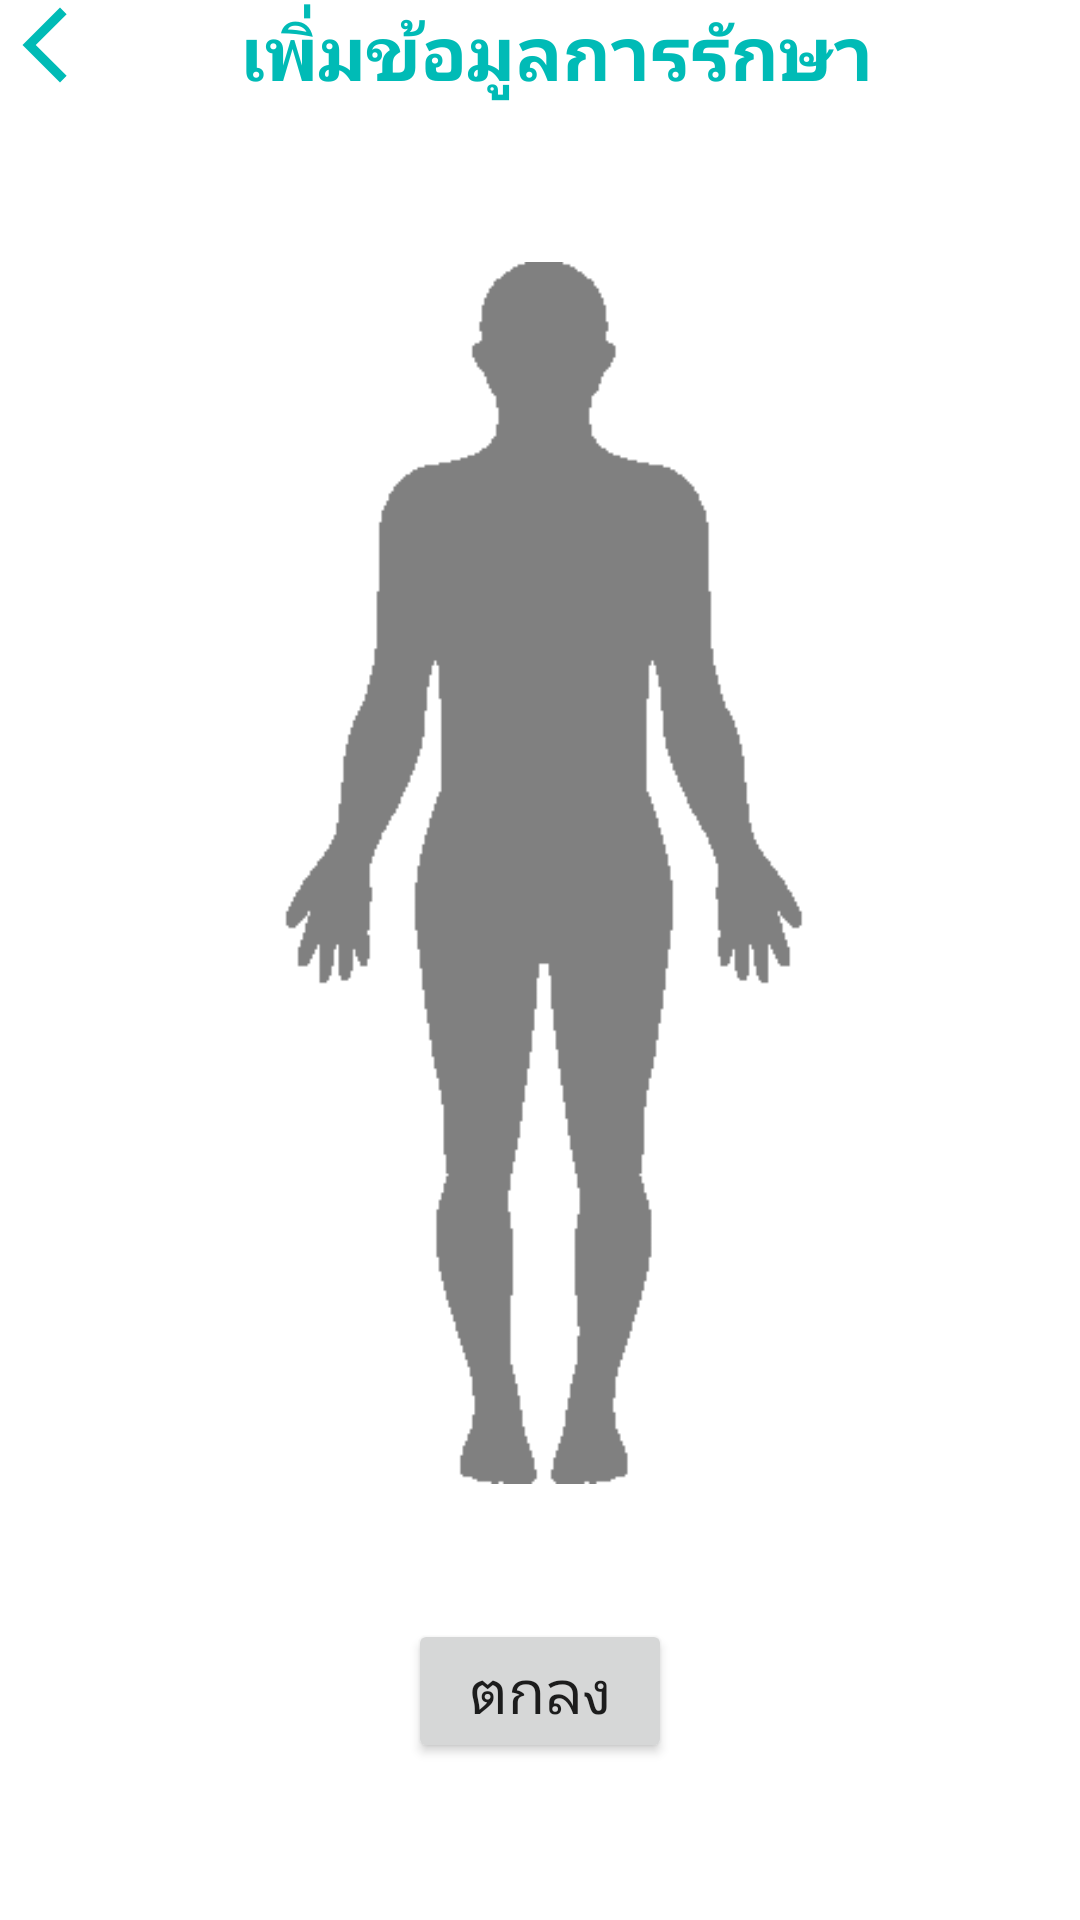

Icons on this 1080 × 1920 Android screen, each with its box as [x1,y1,x2,y2]:
arrow back: [22,7,67,83]
